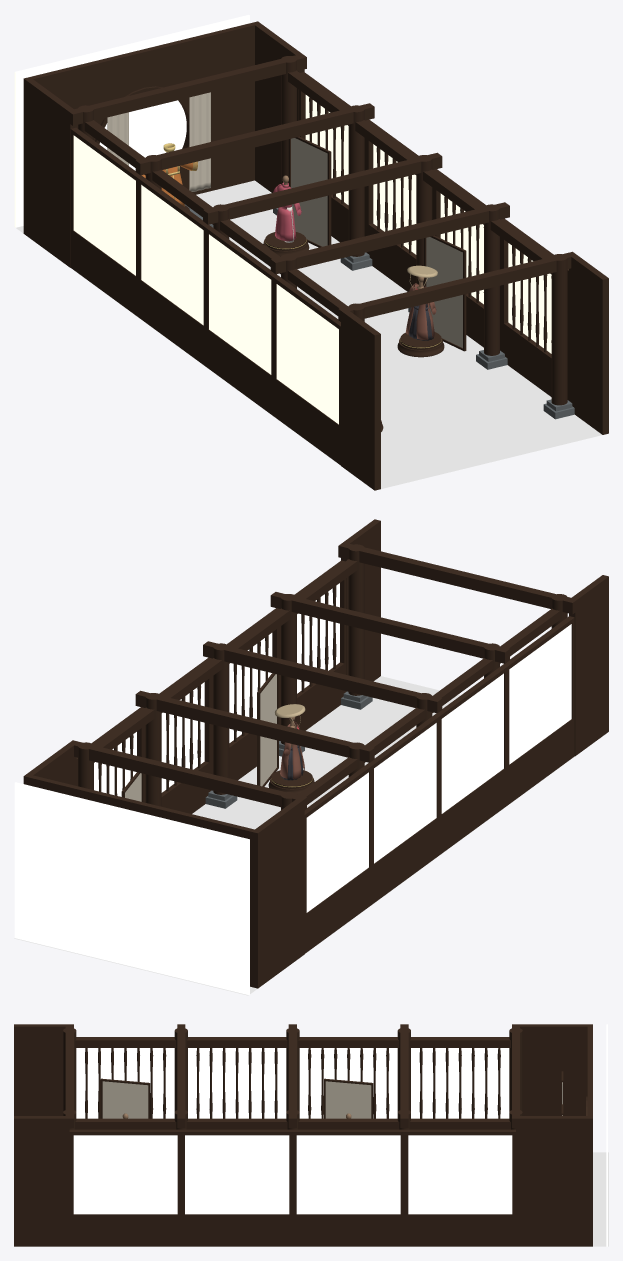
File: viet_phuc_gallery.glb
3 views of the same model, one above another, from view 1: azimuth 30°, elevation 25°; view 2: azimuth 150°, elevation 25°; view 3: azimuth 270°, elevation 25° (orthographic). The views are drawn at different scales.
Visible parts, largest first — view 1: ENV_Floor, ENV_MoonGate_Screen, ENV_Window_L_04, ENV_Window_L_02, ENV_Window_L_03, ENV_Window_L_01, ENV_Wall_Side_L_Rear, ENV_Wall_Side_L_Front, ENV_Wall_Side_R_Front, ENV_MoonGate_GlowWall, ENV_Window_R_01, ENV_Window_R_03 (+20 smaller); view 2: ENV_MoonGate_GlowWall, ENV_Window_L_02, ENV_Window_L_01, ENV_Window_L_03, ENV_Window_L_04, ENV_Wall_Side_L_Rear, ENV_Floor, ENV_Wall_Side_L_Front, ENV_Window_R_01, ENV_Window_R_03, ENV_MoonGate_Screen, ENV_Window_R_02 (+16 smaller); view 3: ENV_Window_R_01, ENV_Window_R_02, ENV_Window_R_04, ENV_Window_R_03, ENV_Wall_Side_R_Rear, ENV_Wall_Side_R_Front, ENV_Window_L_02, ENV_Window_L_04, ENV_Wall_Side_L_Rear, ENV_Window_L_01, ENV_Window_L_03, ENV_Purlin_R (+17 smaller).
Part boxes in pixels (x1,y1,x2,y2): ENV_Floor: (16, 180, 601, 488); ENV_MoonGate_Screen: (23, 21, 260, 234); ENV_Window_L_04: (70, 127, 143, 316); ENV_Window_L_02: (206, 226, 278, 415); ENV_Window_L_03: (138, 177, 210, 366); ENV_Window_L_01: (273, 276, 340, 465); ENV_Wall_Side_L_Rear: (25, 79, 76, 267); ENV_Wall_Side_L_Front: (341, 310, 380, 490); ENV_Wall_Side_R_Front: (569, 255, 608, 434); ENV_MoonGate_GlowWall: (14, 15, 249, 227); ENV_Window_R_01: (501, 220, 568, 400); ENV_Window_R_03: (366, 121, 438, 291); ENV_MoonGate_GlowWall: (14, 782, 249, 994); ENV_Window_L_02: (434, 665, 506, 854); ENV_Window_L_01: (502, 616, 574, 805); ENV_Window_L_03: (367, 715, 439, 904); ENV_Window_L_04: (304, 764, 371, 953); ENV_Wall_Side_L_Rear: (254, 799, 304, 986); ENV_Floor: (14, 676, 574, 995); ENV_Wall_Side_L_Front: (569, 575, 608, 756); ENV_Window_R_01: (274, 560, 346, 730); ENV_Window_R_03: (139, 659, 211, 813); ENV_MoonGate_Screen: (23, 775, 260, 988); ENV_Window_R_02: (206, 610, 278, 780); ENV_Window_R_01: (69, 1129, 181, 1246); ENV_Window_R_02: (181, 1129, 292, 1246); ENV_Window_R_04: (404, 1129, 515, 1246); ENV_Window_R_03: (293, 1129, 404, 1246); ENV_Wall_Side_R_Rear: (516, 1116, 590, 1246); ENV_Wall_Side_R_Front: (14, 1116, 69, 1246); ENV_Window_L_02: (188, 1048, 286, 1118); ENV_Window_L_04: (411, 1048, 509, 1118); ENV_Wall_Side_L_Rear: (520, 1024, 589, 1115); ENV_Window_L_01: (76, 1048, 174, 1118); ENV_Window_L_03: (299, 1048, 397, 1118); ENV_Purlin_R: (75, 1118, 510, 1129).
Bounding box in the file's own units: 6 × 3.8 × 16.
